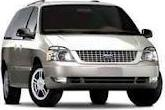front_view: (48, 40, 160, 90)
headlight: (47, 45, 79, 66)
side_glass: (11, 6, 40, 42)
